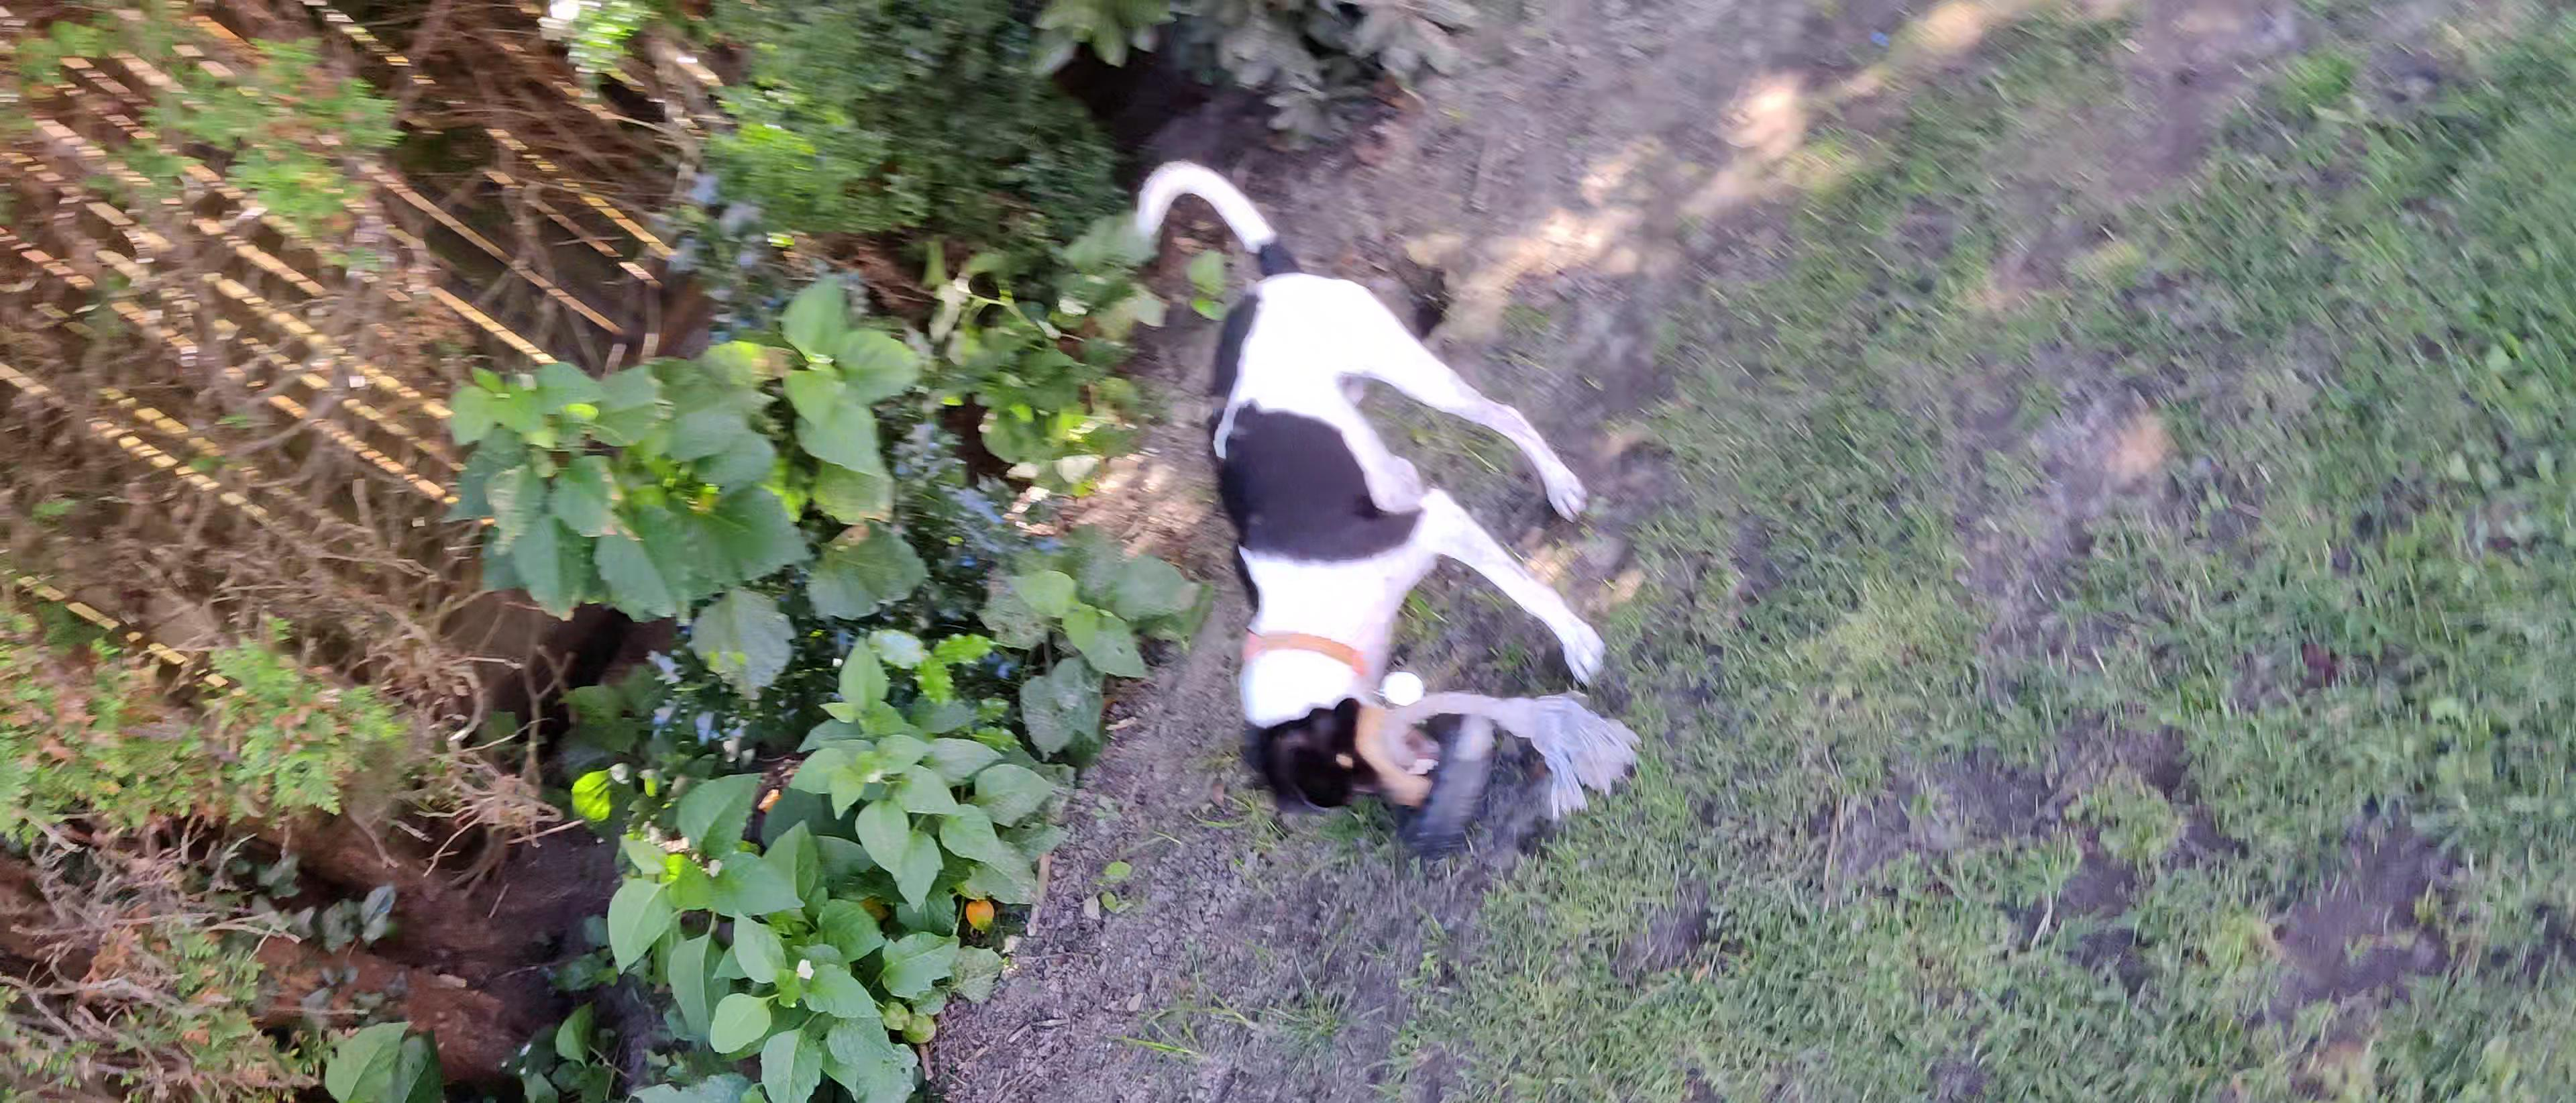Dog: (1107, 128, 1617, 828)
